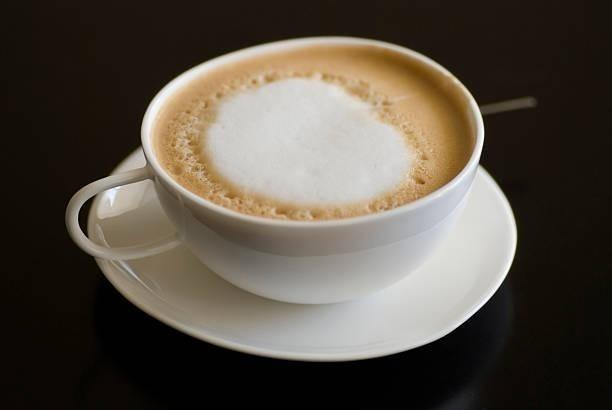cup-handle: (64, 34, 485, 307)
